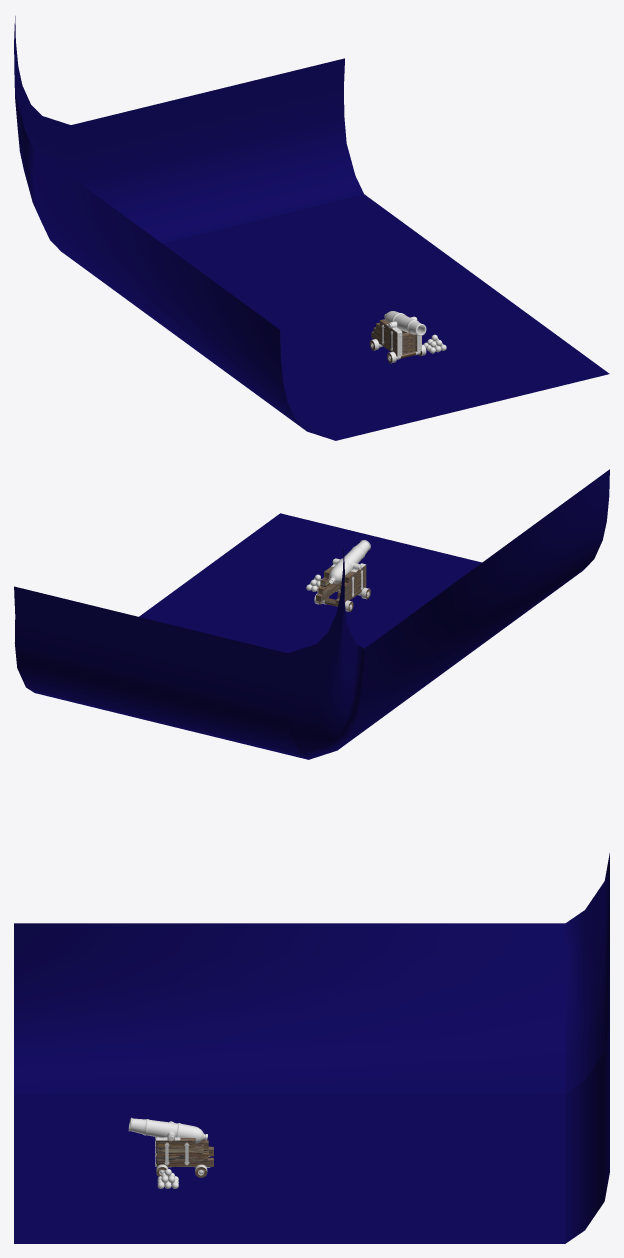
File: cañon_FBX.fbx
The picture shows the model from 3 angles, top to bottom: view 1: azimuth 30°, elevation 25°; view 2: azimuth 150°, elevation 25°; view 3: azimuth 270°, elevation 25°; orthographic projection. The views are drawn at different scales.
Visible parts, largest first — view 1: Plane.004, Cylinder; view 2: Plane.004, Cylinder; view 3: Plane.004, Cylinder.
Part boxes in pixels (x1,y1,x2,y2): Plane.004: (14,16,609,440); Cylinder: (384,311,426,335); Plane.004: (14,469,609,759); Cylinder: (328,540,370,583); Plane.004: (14,853,609,1243); Cylinder: (128,1117,207,1143).
Size of the model in its own units: 4683 by 3322 by 6507.
